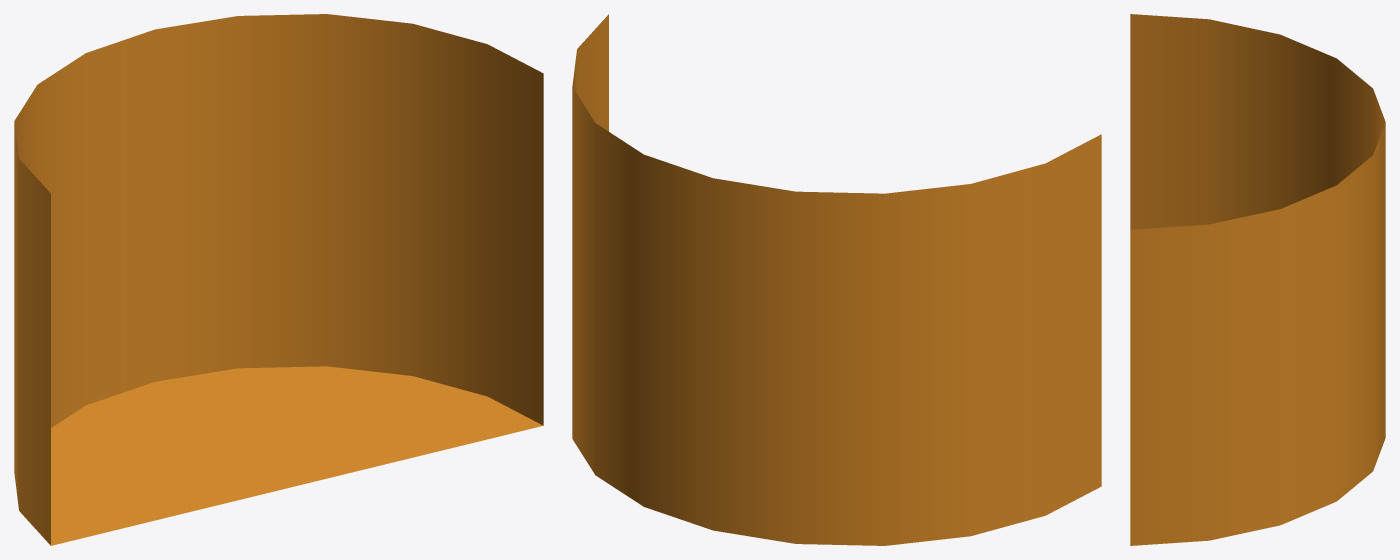
File: Mesh BackGround 1.fbx
The picture shows the model from 3 angles, left to right: view 1: azimuth 30°, elevation 25°; view 2: azimuth 150°, elevation 25°; view 3: azimuth 270°, elevation 25°; orthographic projection. The views are drawn at different scales.
Parts seen in each view (by area): view 1: pCylinder3; view 2: pCylinder3; view 3: pCylinder3.
Boxes of the visible parts, x1=… form: pCylinder3: x1=14, y1=14, x2=543, y2=545; pCylinder3: x1=572, y1=14, x2=1101, y2=545; pCylinder3: x1=1130, y1=14, x2=1385, y2=545.
Size of the model in its own units: 14774 by 10097 by 7387.
